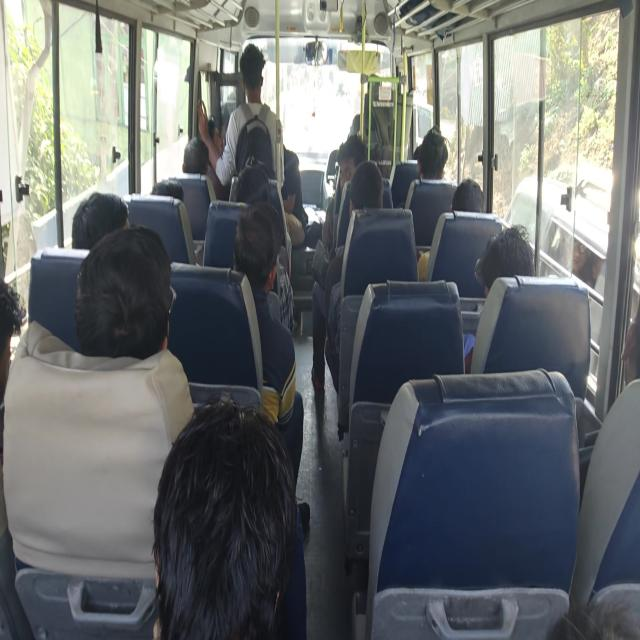person: (160, 400, 287, 626), (70, 247, 184, 356), (64, 197, 146, 261), (223, 215, 291, 292), (602, 303, 640, 434), (237, 47, 284, 123), (0, 271, 28, 393), (420, 119, 457, 182), (231, 166, 275, 215), (483, 226, 517, 277), (457, 173, 486, 227), (348, 163, 386, 204), (152, 166, 186, 211), (337, 145, 368, 184), (182, 134, 207, 182), (201, 117, 223, 171), (246, 149, 277, 178), (407, 144, 433, 164)
